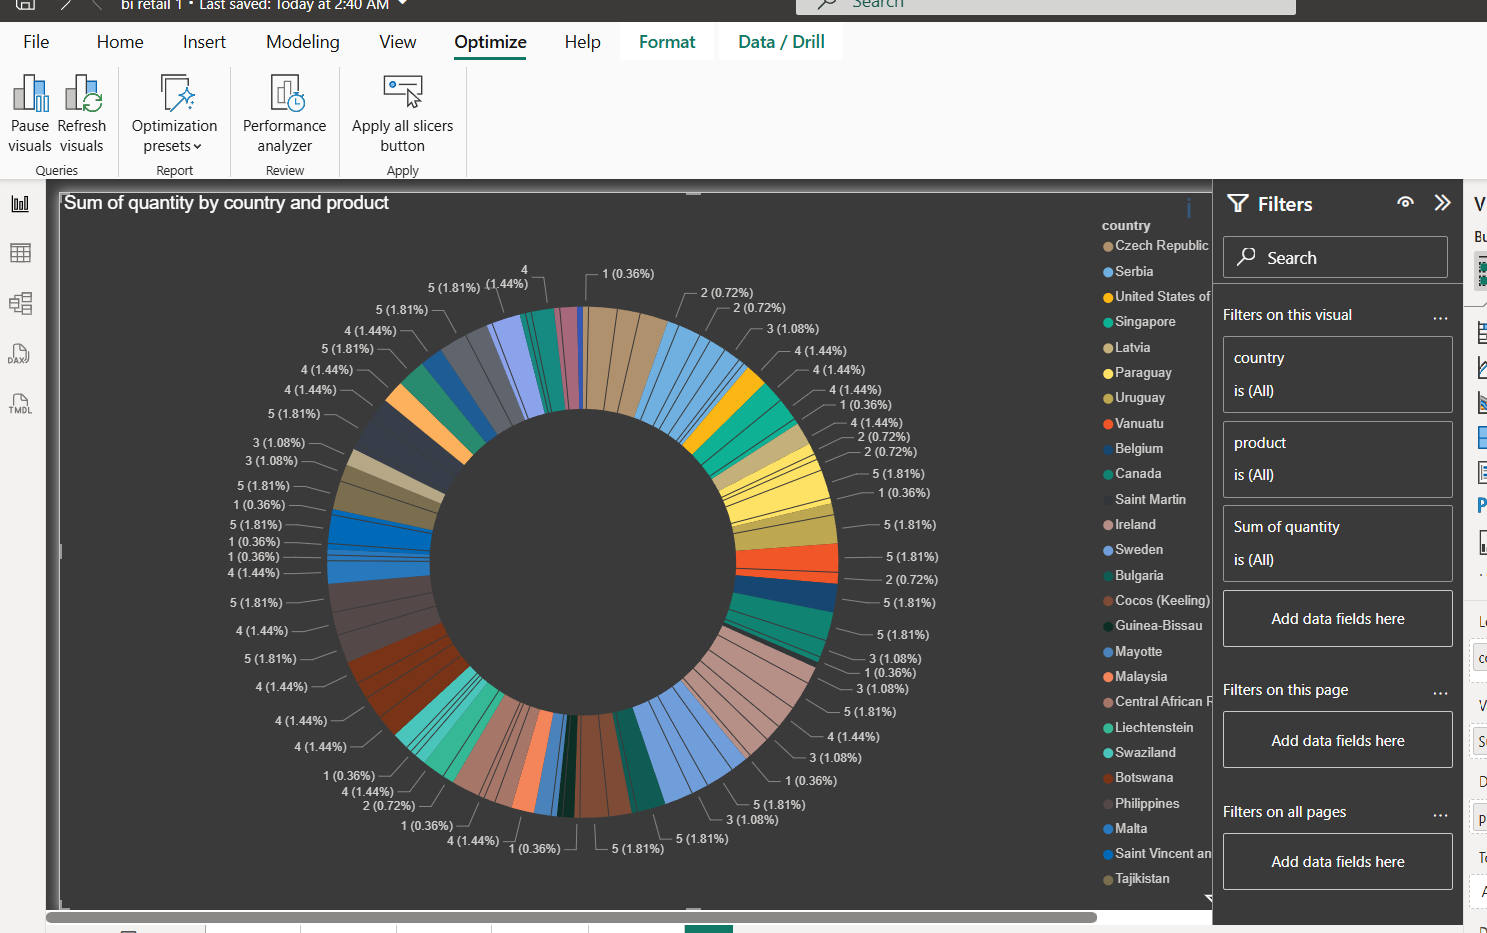

The page's visual inventory and layout, read from the dashboard file:
{"tool":"powerbi","page":{"name":"Page 4","canvas":[1280,720],"ordinal":3},"visuals":[{"type":"donutChart","fields":{"Category":["run-1752526286075-part-r-00000.country"],"Series":["run-1752526286075-part-r-00000.product"],"Y":["Sum(run-1752526286075-part-r-00000.quantity)"]},"box":[0,0,1270,720],"z":0}]}

Visuals, with their boxes on the page's 1280x720 design canvas (x1, y1, x2, y2). These are canvas units, not pixel positions in the 1487x933 screenshot, which may show the page scaled, cropped or inside an application window:
donutChart - run-1752526286075-part-r-00000.country x run-1752526286075-part-r-00000.product: box=[0, 0, 1270, 720]
